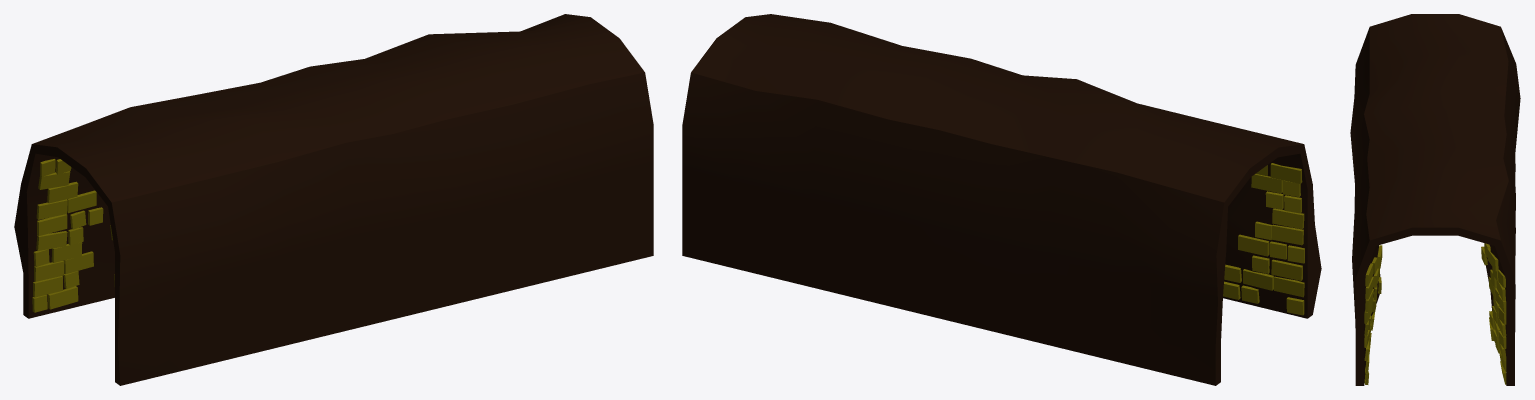
File: Paroi_1.fbx
3 renders of one model, left to right at view 1: azimuth 30°, elevation 25°; view 2: azimuth 150°, elevation 25°; view 3: azimuth 270°, elevation 25°, orthographic. The views are drawn at different scales.
Parts seen in each view (by area): view 1: paroi1; view 2: paroi1; view 3: paroi1.
Part boxes in pixels (x1,y1,x2,y2): paroi1: (14, 14, 653, 385); paroi1: (682, 14, 1321, 385); paroi1: (1350, 14, 1520, 385).
Bounding box in the file's own units: 811 × 288 × 269.
